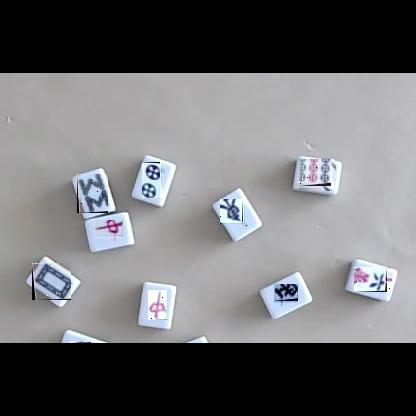1z: (221, 200, 248, 227)
2p: (143, 162, 165, 198)
3z: (274, 285, 298, 306), (70, 341, 91, 343)
5z: (32, 263, 71, 300)
6m: (355, 267, 392, 292)
7z: (94, 221, 123, 241), (148, 290, 167, 320)
8s: (77, 174, 108, 213)
9p: (300, 160, 336, 191)
